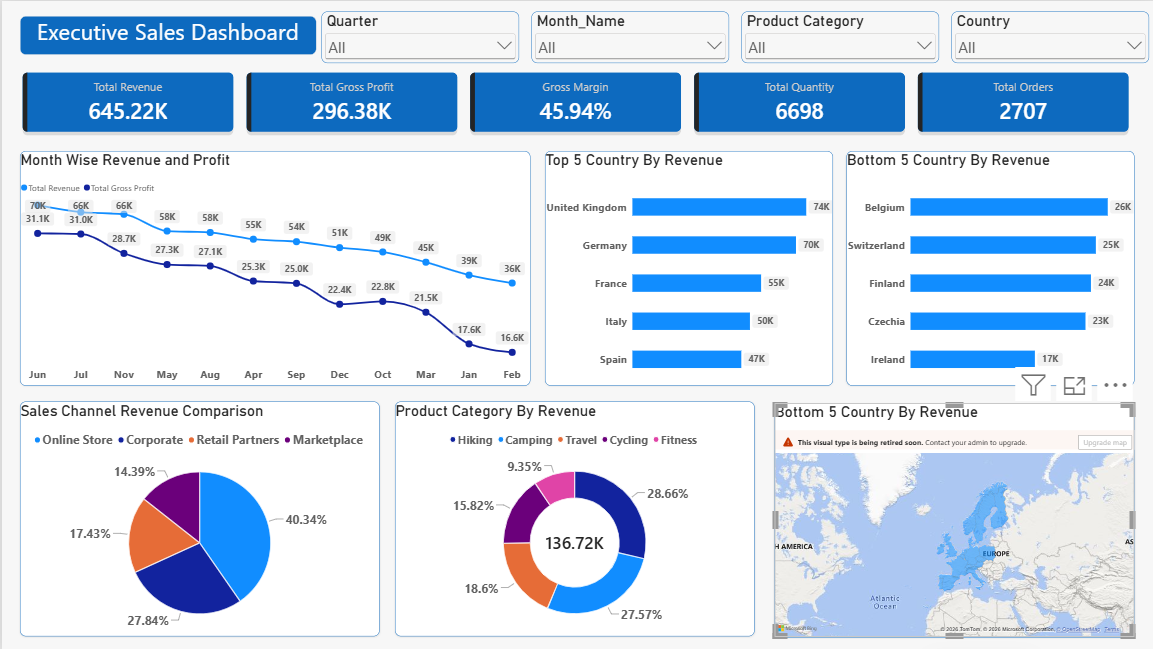

Layout of this report page (visuals, bound fields, positions):
{"tool":"powerbi","page":{"name":"Page 1","canvas":[1920,1080],"ordinal":0},"visuals":[{"type":"slicer","fields":{"Values":["Date_Table.Month_Name"]},"box":[882,16.7,329.3,85.9],"z":0,"group":"g1"},{"type":"cardVisual","fields":{"Data":["All_Measures.Total Revenue","All_Measures.Total Gross Profit","All_Measures.Gross Margin","All_Measures.Total Quantity","All_Measures.Total Orders"]},"box":[28.6,112.1,1858.6,112.1],"z":0},{"type":"slicer","fields":{"Values":["Date_Table.Quarter"]},"box":[532.1,16.7,329.3,85.9],"z":1000,"group":"g1"},{"type":"textbox","box":[31,26.2,493.9,64.4],"z":1000},{"type":"group","id":"g1","title":"Group 1","box":[532.1,16.7,1379.1,85.9],"z":2000},{"type":"slicer","fields":{"Values":["Sales_Data.Product Category"]},"box":[1232,16.7,329.3,85.9],"z":2000,"group":"g1"},{"type":"slicer","fields":{"Values":["Sales_Data.Country"]},"box":[1581.2,16.7,329.3,85.9],"z":3000,"group":"g1"},{"type":"lineChart","title":"Month Wise Revenue and Profit","fields":{"Category":["Date_Table.Month_Name"],"Y":["All_Measures.Total Revenue"],"Y2":["All_Measures.Total Gross Profit"]},"box":[31.2,249.5,850.4,391.2],"z":3000},{"type":"clusteredBarChart","title":"Top 5 Country By Revenue","fields":{"Category":["Sales_Data.Country"],"Y":["All_Measures.Total Revenue"]},"box":[904.3,249.5,479.7,391.2],"z":4000},{"type":"clusteredBarChart","title":"Bottom 5 Country By Revenue","fields":{"Category":["Sales_Data.Country"],"Y":["All_Measures.Total Revenue"]},"box":[1408.1,249.5,479.7,391.2],"z":5000},{"type":"pieChart","title":"Sales Channel Revenue Comparison","fields":{"Category":["Sales_Data.Sales Channel"],"Y":["All_Measures.Total Revenue"]},"box":[31,668.1,599.6,391.3],"z":6000},{"type":"filledMap","title":"Bottom 5 Country By Revenue","fields":{"Category":["Sales_Data.Country"]},"box":[1286.9,669,600.9,391.2],"z":7000},{"type":"donutChart","title":"Product Category By Revenue","fields":{"Category":["Sales_Data.Product Category"],"Y":["All_Measures.Total Gross Profit"]},"box":[655.2,668.1,599.6,391.3],"z":8000}]}

Visuals, with their boxes in screenshot pixels (x1, y1, x2, y2), scaled from the page's 1920x1080 canvas onto the 1153x649 screenshot:
slicer - Date_Table.Month_Name: left=530, top=10, right=727, bottom=62
cardVisual - All_Measures.Total Revenue x All_Measures.Total Gross Profit: left=17, top=67, right=1133, bottom=135
slicer - Date_Table.Quarter: left=320, top=10, right=517, bottom=62
textbox: left=19, top=16, right=315, bottom=54
"Group 1" group: left=320, top=10, right=1148, bottom=62
slicer - Sales_Data.Product Category: left=740, top=10, right=938, bottom=62
slicer - Sales_Data.Country: left=950, top=10, right=1147, bottom=62
"Month Wise Revenue and Profit" lineChart: left=19, top=150, right=529, bottom=385
"Top 5 Country By Revenue" clusteredBarChart: left=543, top=150, right=831, bottom=385
"Bottom 5 Country By Revenue" clusteredBarChart: left=846, top=150, right=1134, bottom=385
"Sales Channel Revenue Comparison" pieChart: left=19, top=401, right=379, bottom=637
"Bottom 5 Country By Revenue" filledMap: left=773, top=402, right=1134, bottom=637
"Product Category By Revenue" donutChart: left=393, top=401, right=754, bottom=637
